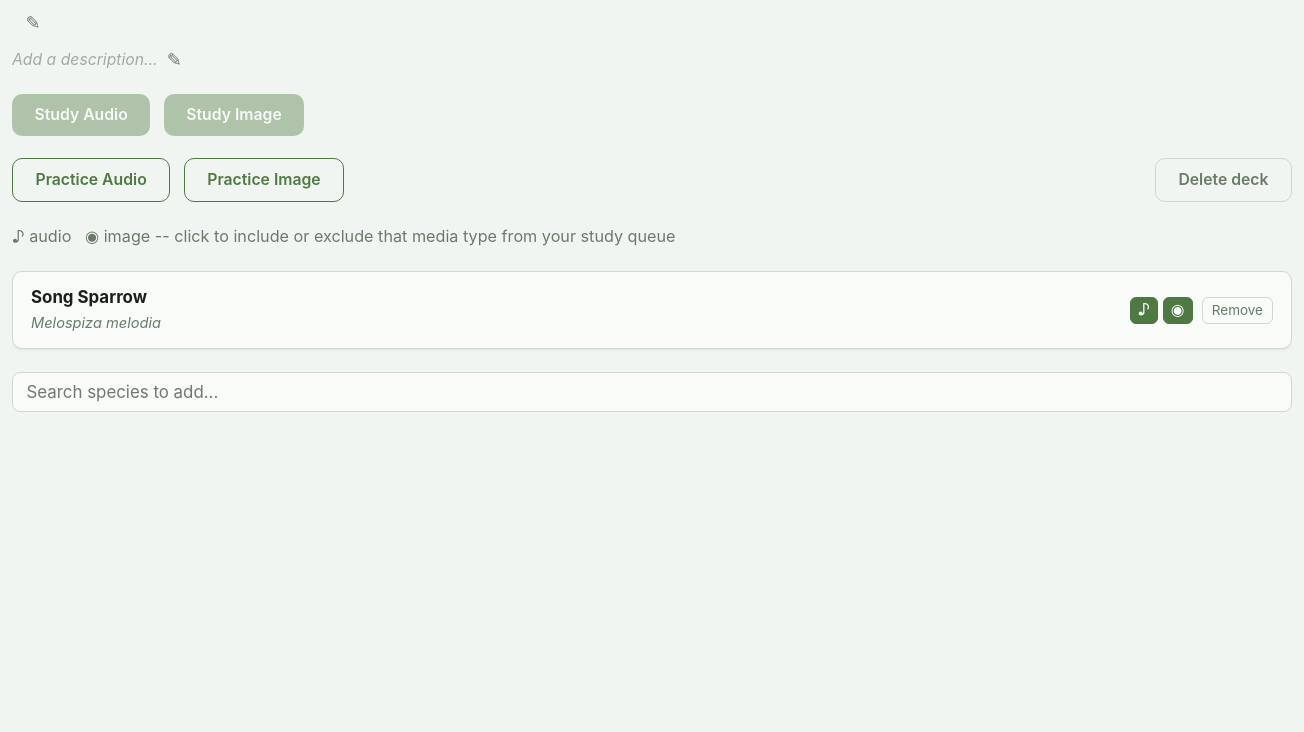
Deck detail page › searches species and shows results
The image size is (1304, 732).
Type "fox" into the field with placeholder "Search species to add..." at (652, 392), box [12, 372, 1292, 412]
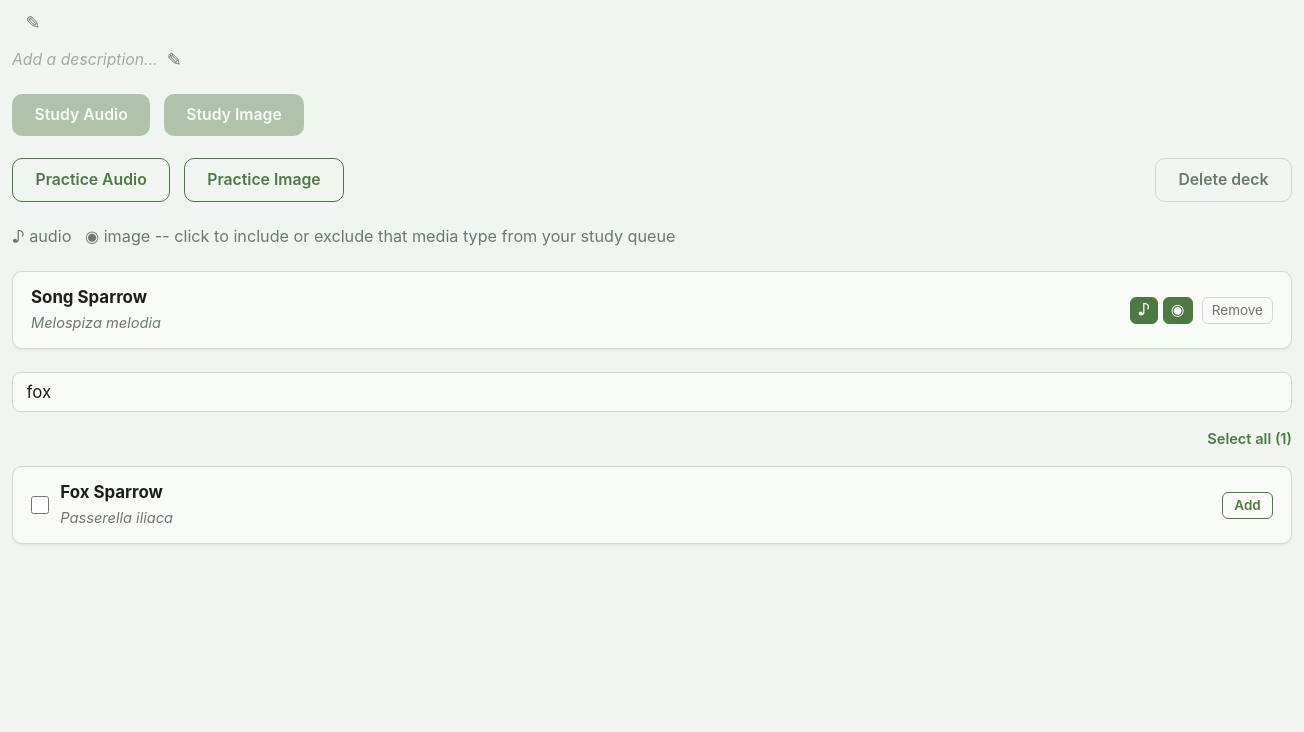
Expected: the text "Fox Sparrow" is shown, [60, 482, 163, 502]
